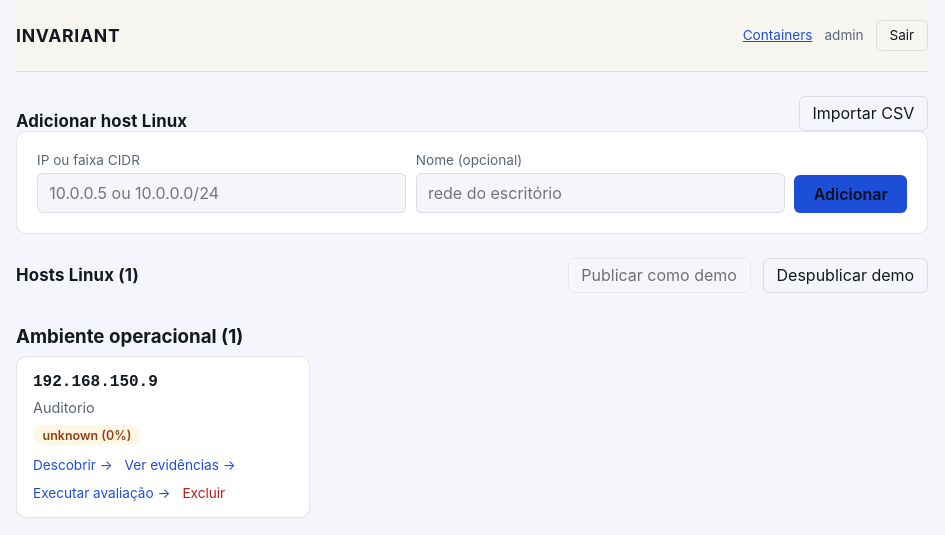
Scenario: Endpoints -- evidência real de falha de discovery › mostra o resumo em português e nunca os códigos internos crus
The image size is (945, 535).
Check: the button "Importar CSV" is shown, box [799,96,928,131]
Click the button "Ver evidências →": (180, 465) [125,457,236,473]
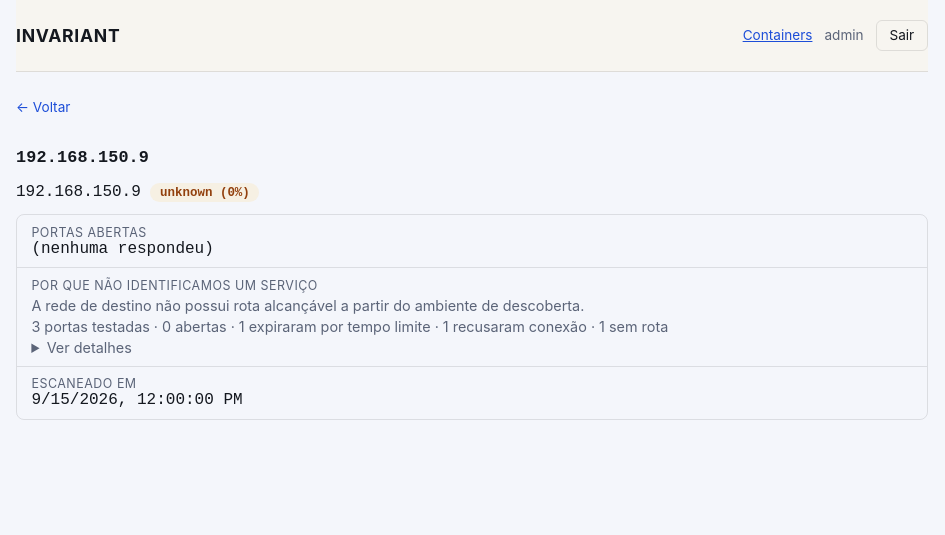
Check: the text "portas testadas" is shown, box [40,318,162,335]
Check: the text "A rede de destino não possui rota alcançável a partir do ambiente de descoberta." is shown, box [31,297,584,314]
Check: the text "3 portas testadas · 0 abertas" is shown, box [31,318,668,335]
Click the heading "Ver detalhes": (89, 348) [47,339,132,356]
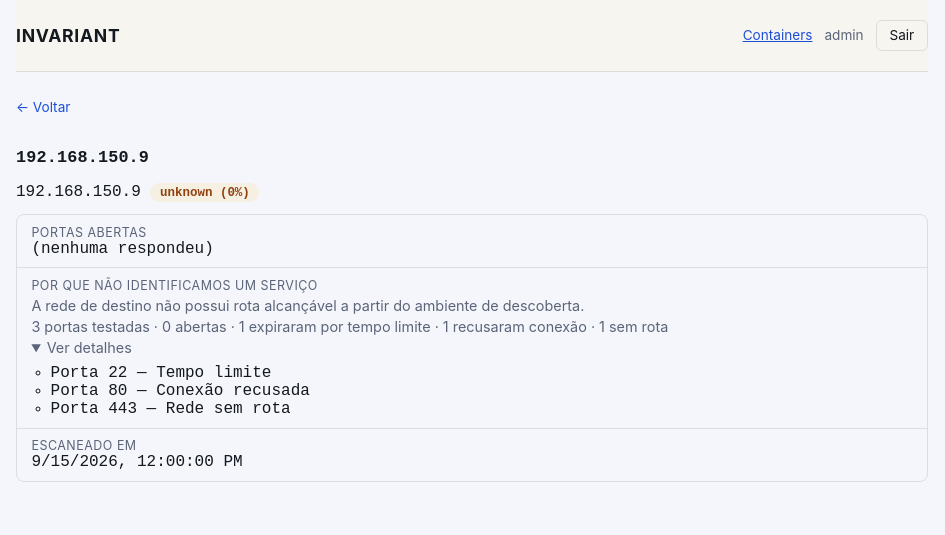
Check: the list item "Porta 22 — Tempo limite" is shown, box [51,364,271,382]
Check: the list item "Porta 80 — Conexão recusada" is shown, box [51,382,310,400]
Check: the list item "Porta 443 — Rede sem rota" is shown, box [51,400,291,418]
